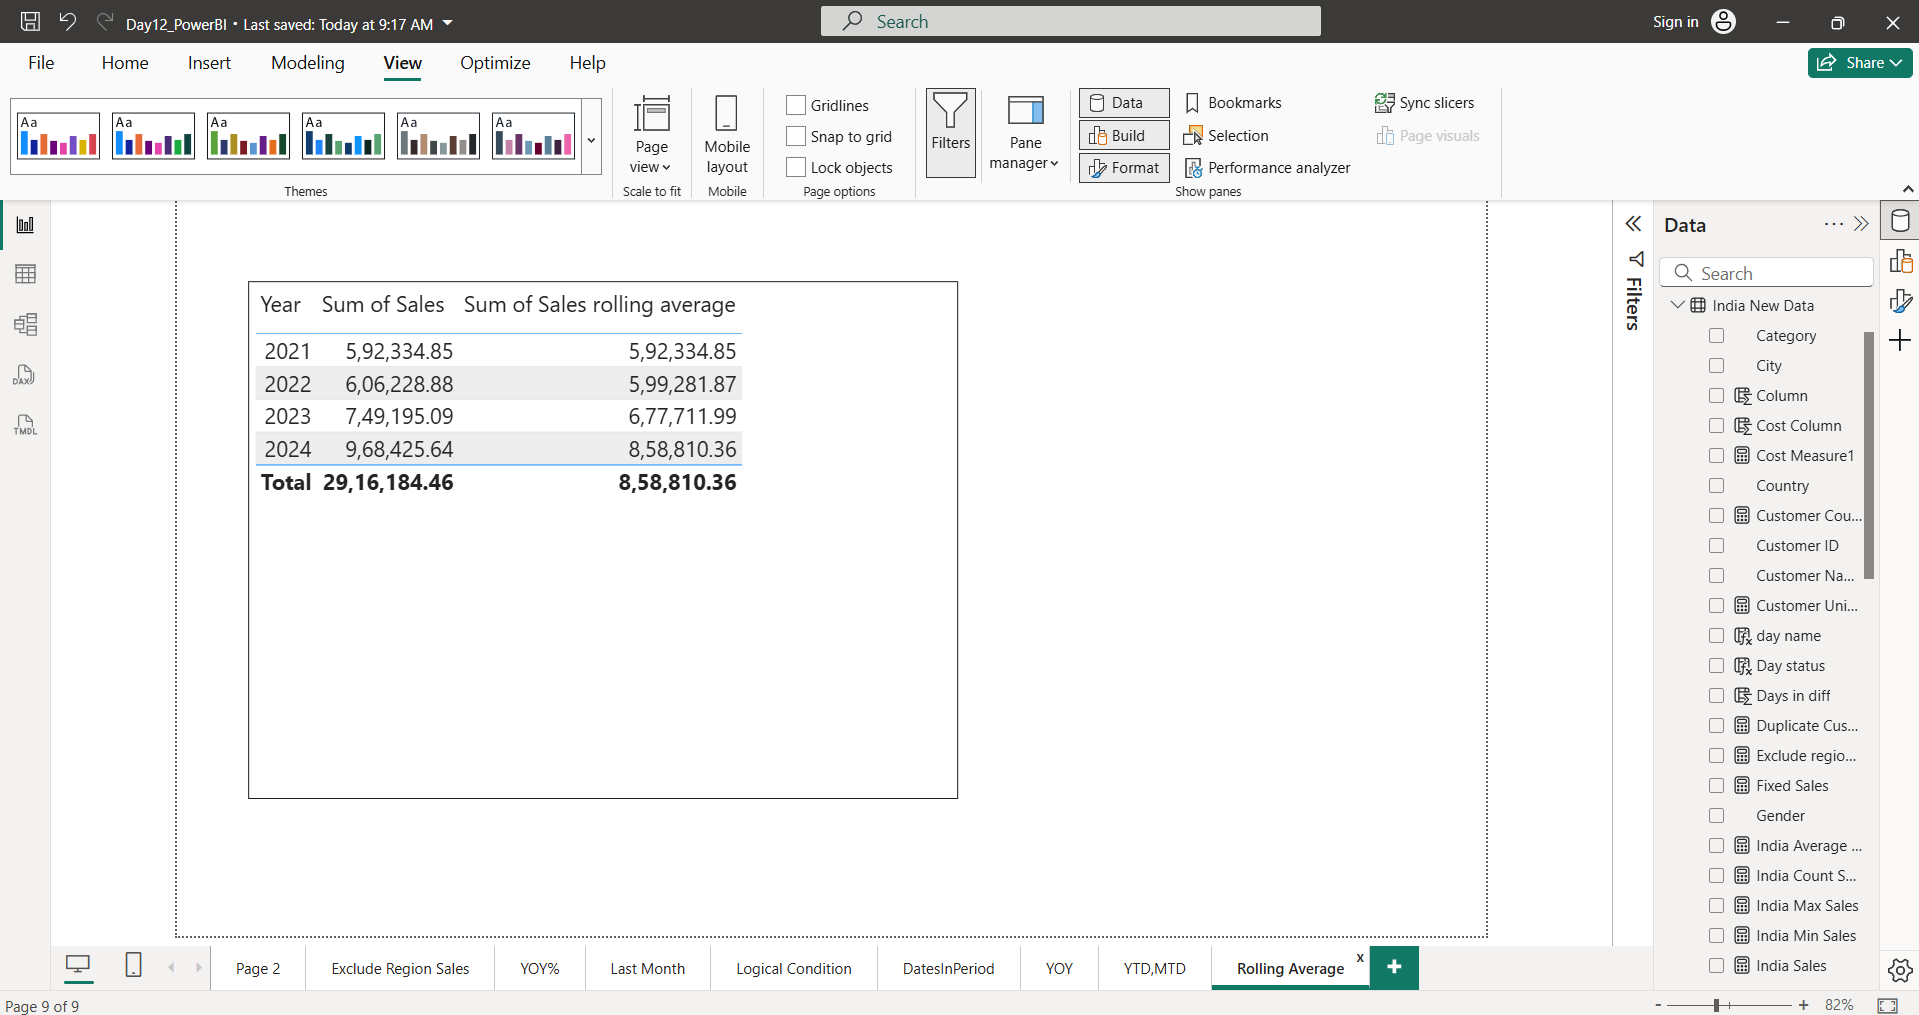

The page's visual inventory and layout, read from the dashboard file:
{"tool":"powerbi","page":{"name":"Rolling Average","canvas":[1280,720],"ordinal":8},"visuals":[{"type":"tableEx","fields":{"Values":["India New Data.Order Date.Variation.Date Hierarchy.Year","Sum(India New Data.Sales)","Country list.Sum of Sales rolling average"]},"box":[70,80,694,506],"z":0}]}

Visuals, with their boxes on the page's 1280x720 design canvas (x1, y1, x2, y2). These are canvas units, not pixel positions in the 1919x1015 screenshot, which may show the page scaled, cropped or inside an application window:
tableEx - India New Data.Order Date.Variation.Date Hierarchy.Year x Sum(India New Data.Sales): select_region(70, 80, 764, 586)
